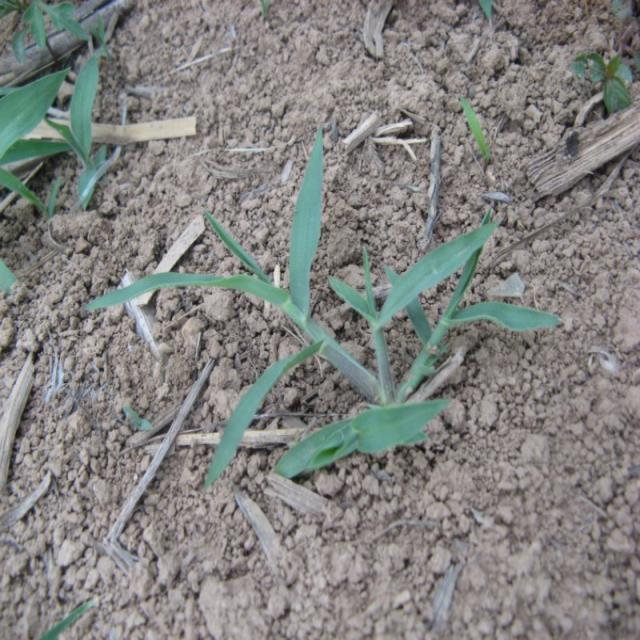bg: (84, 136, 565, 489)
